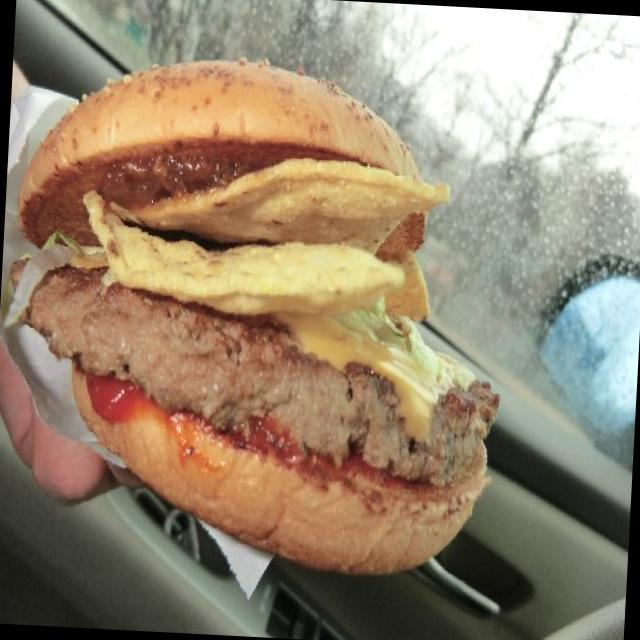Hamburger: (26, 54, 517, 566)
